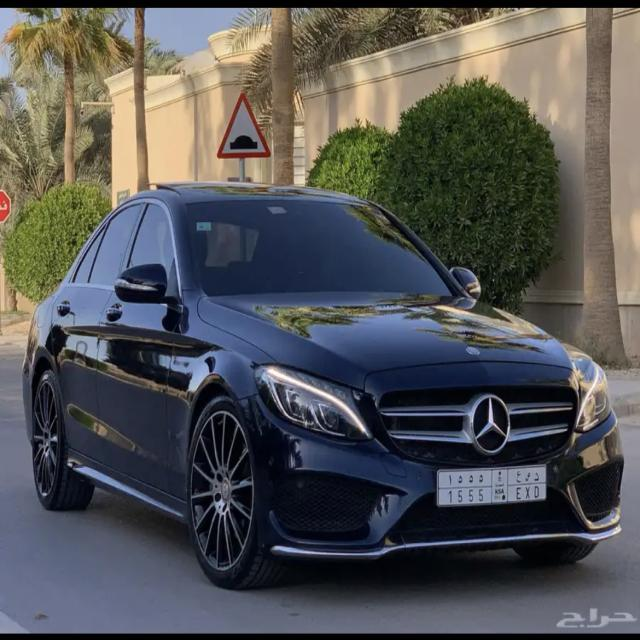license_plate: (436, 465, 546, 508)
